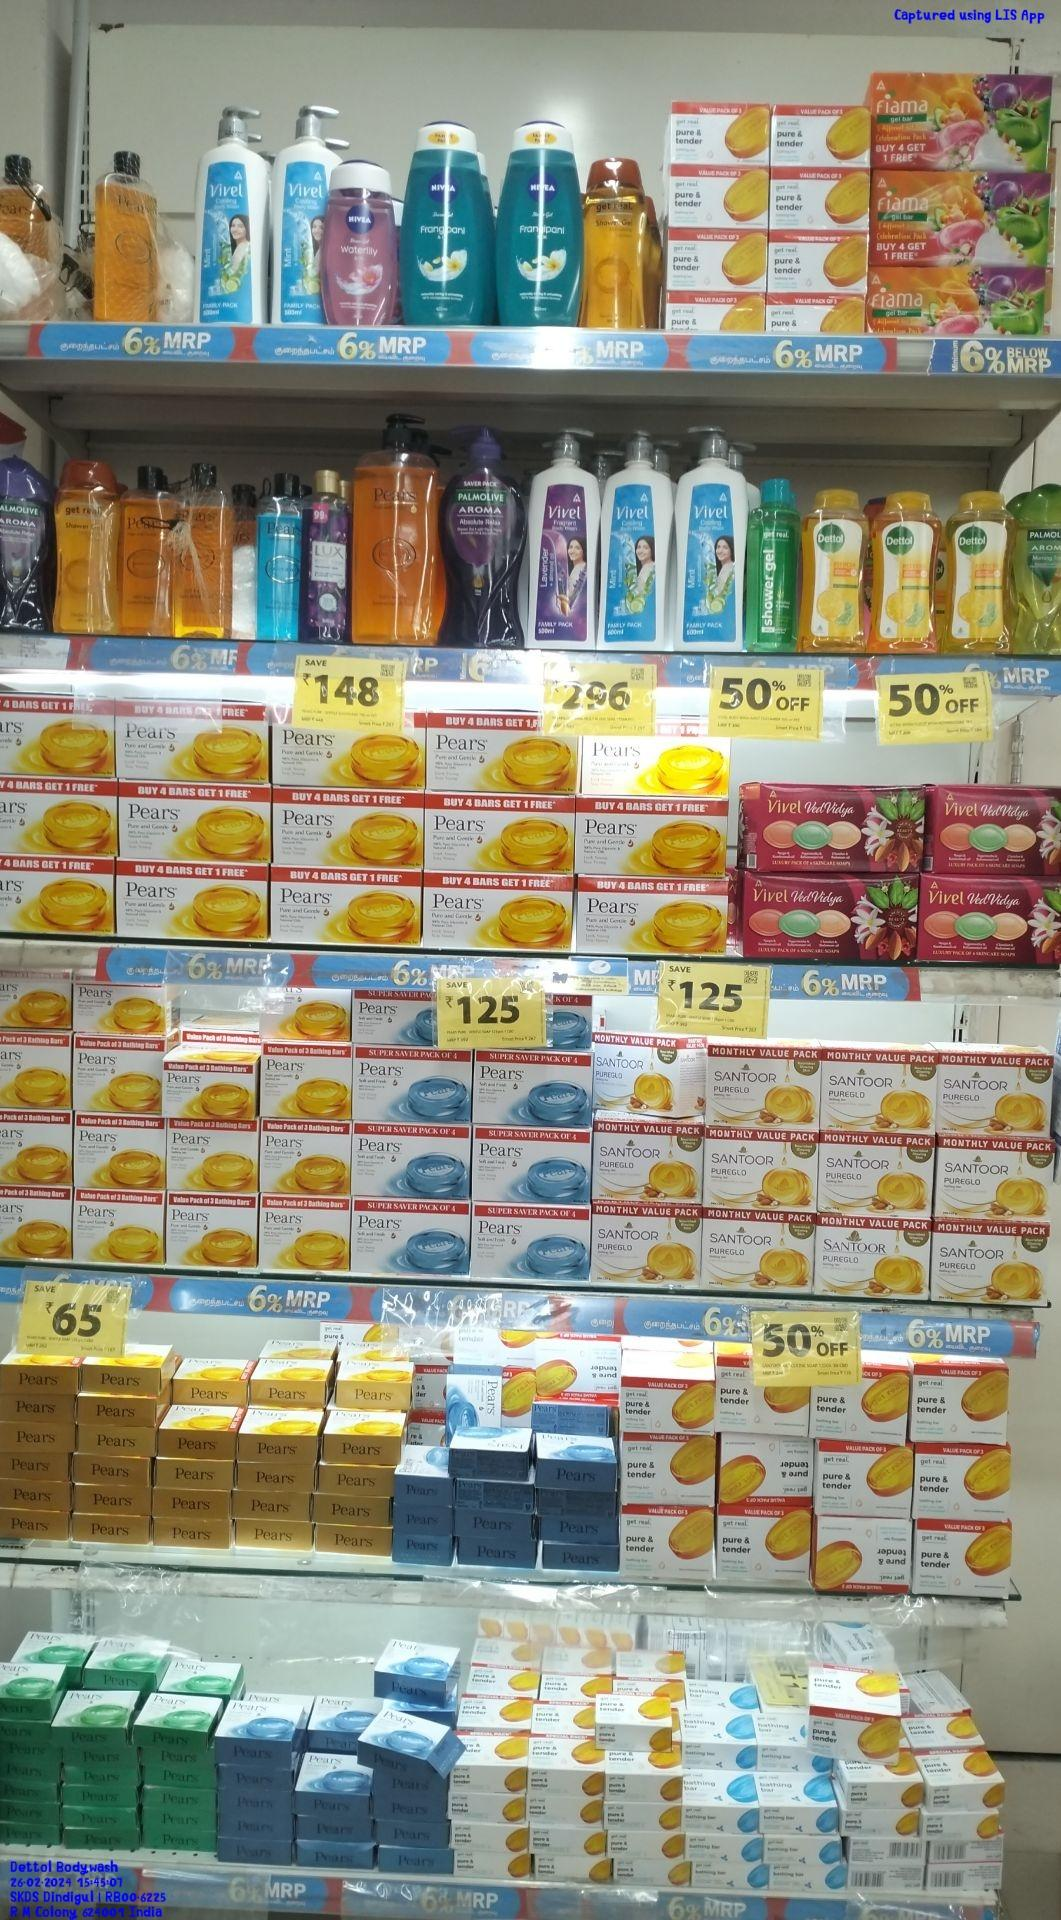Dettol_Bodywash_Refresh: (796, 487, 869, 653), (945, 490, 1011, 656), (869, 488, 936, 654)
Get_Real_Shower_Gel_Moisturising_Glycerin_300ML: (52, 456, 122, 635)
